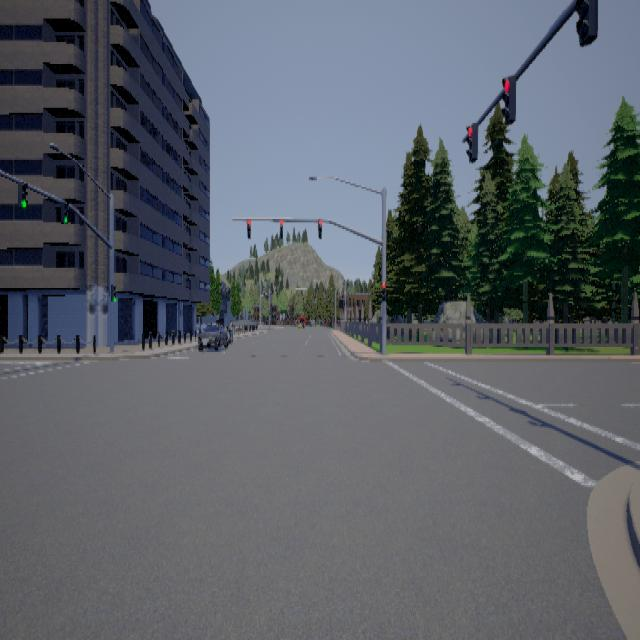green_light: (17, 180, 27, 207), (60, 200, 68, 222), (111, 284, 117, 302)
red_light: (500, 74, 515, 123), (465, 121, 477, 162), (318, 219, 322, 239), (381, 281, 385, 300), (280, 218, 283, 238), (247, 218, 250, 238)
traffic_light: (575, 0, 597, 45)
vehicle: (197, 324, 232, 351)
